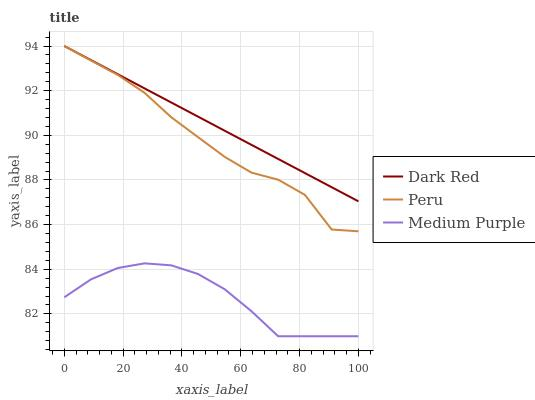axis: (41, 33, 55, 343), (54, 347, 380, 358)
legend: (372, 156, 535, 243)
line: (65, 45, 357, 233), (64, 44, 359, 203), (64, 261, 358, 339)
